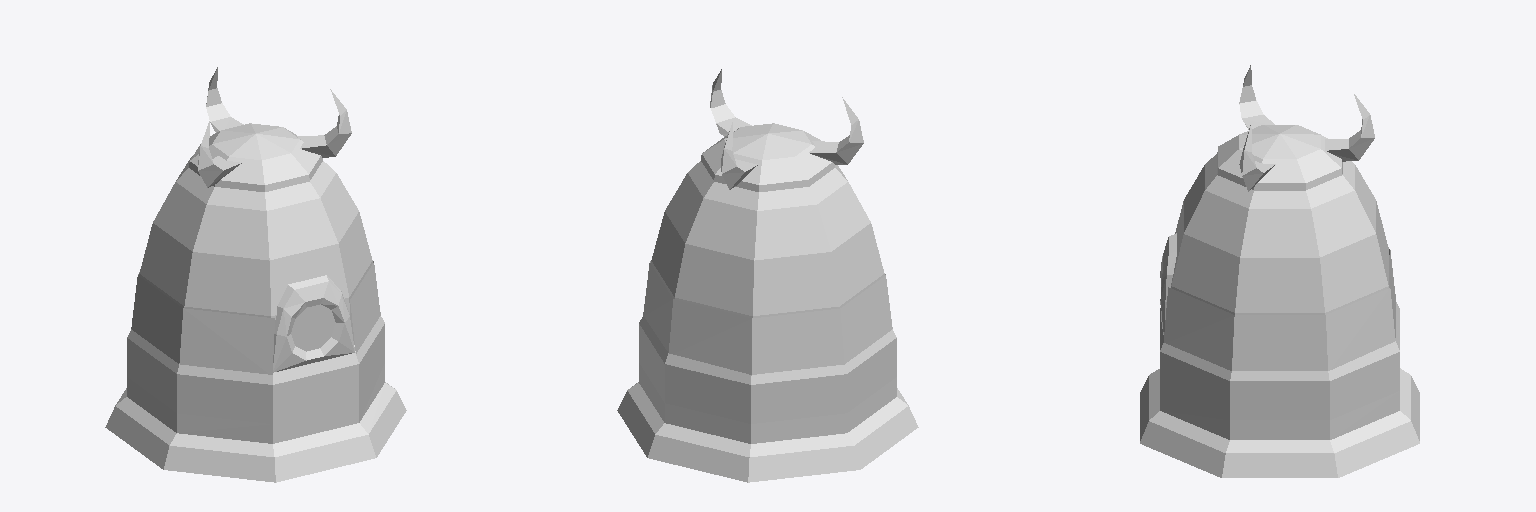
File: stg600_obj_tankA.obj
3 renders of one model, left to right at view 1: azimuth 30°, elevation 25°; view 2: azimuth 150°, elevation 25°; view 3: azimuth 270°, elevation 25°, orthographic.
Parts seen in each view (by area): view 1: polygon0, polygon2, polygon3, polygon4, polygon1; view 2: polygon0, polygon2, polygon3, polygon4; view 3: polygon0, polygon2, polygon3, polygon4.
Part boxes in pixels (left/top/right/bottom): polygon0: left=105, top=123, right=406, bottom=482; polygon2: left=139, top=156, right=372, bottom=344; polygon3: left=131, top=261, right=380, bottom=374; polygon4: left=127, top=67, right=384, bottom=443; polygon1: left=291, top=304, right=335, bottom=351; polygon0: left=617, top=123, right=918, bottom=482; polygon2: left=651, top=161, right=884, bottom=317; polygon3: left=643, top=261, right=892, bottom=374; polygon4: left=639, top=69, right=896, bottom=443; polygon0: left=1140, top=125, right=1419, bottom=477; polygon2: left=1171, top=154, right=1389, bottom=314; polygon3: left=1164, top=249, right=1395, bottom=370; polygon4: left=1160, top=65, right=1399, bottom=439.
Bounding box in the file's own units: 17.48 × 22.38 × 17.48.